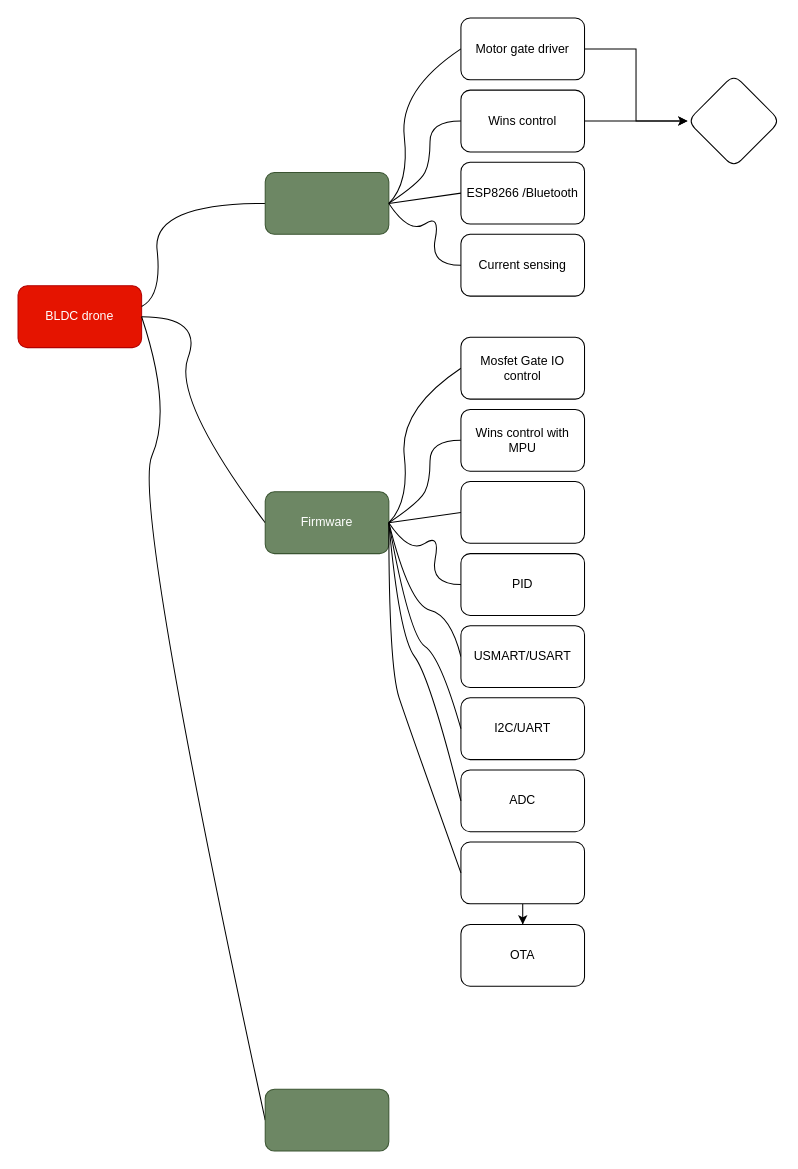
Image size: 798x1169. Some labels were removed from this diagram. The shapes that lost their labels are listed below. From the top down, each one's centre as x and y in pixels, then its label:
At point (733, 120): "Power source".
At point (326, 202): "Hardware".
At point (522, 511): "Cross zero detection".
At point (522, 872): "BLE".
At point (326, 1119): "Mechanical".
